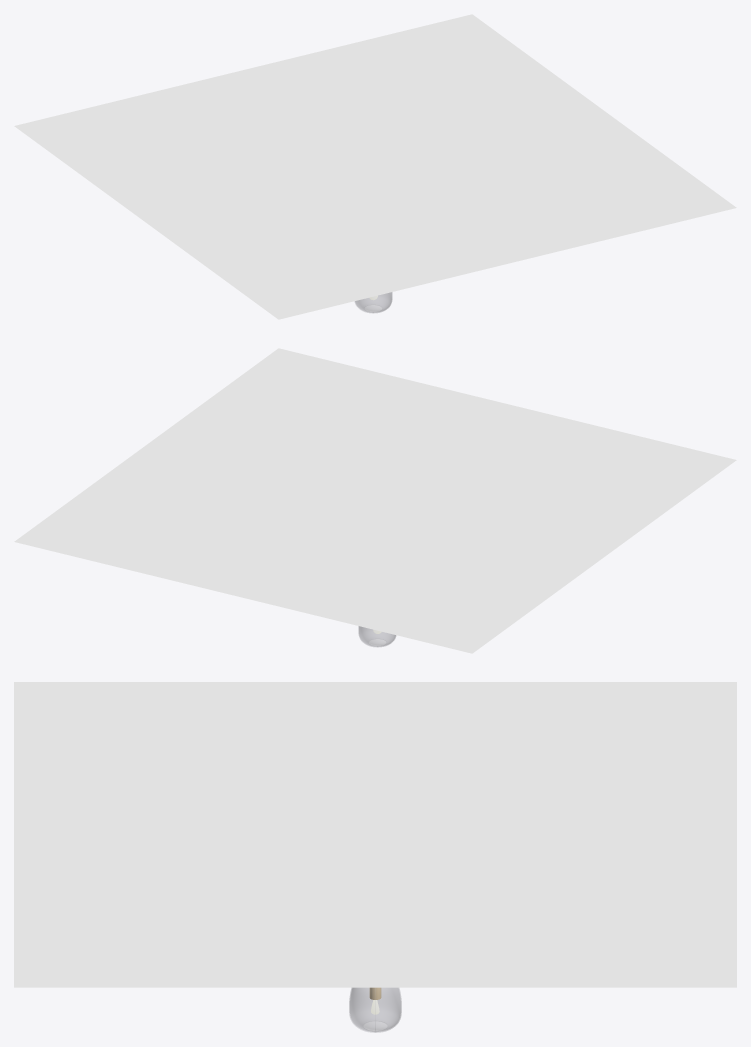
3 renders of one model, top to bottom at view 1: azimuth 30°, elevation 25°; view 2: azimuth 150°, elevation 25°; view 3: azimuth 270°, elevation 25°, orthographic. The views are drawn at different scales.
Parts seen in each view (by area): view 1: Plane001, Temple Pendant Light and 002 Plumen Bulb_GLASS_0; view 2: Plane001, Temple Pendant Light and 002 Plumen Bulb_GLASS_0; view 3: Plane001, Temple Pendant Light and 002 Plumen Bulb_GLASS_0.
Boxes of the visible parts, box(x1,y1,x2,y2) form: Plane001: box(14, 14, 736, 319); Temple Pendant Light and 002 Plumen Bulb_GLASS_0: box(355, 292, 392, 313); Plane001: box(14, 348, 736, 653); Temple Pendant Light and 002 Plumen Bulb_GLASS_0: box(358, 626, 395, 647); Plane001: box(14, 682, 736, 987); Temple Pendant Light and 002 Plumen Bulb_GLASS_0: box(349, 987, 401, 1032).
Size of the model in its own units: 334 by 98.45 by 334.
Materials: 5 (1 with a texture image).
